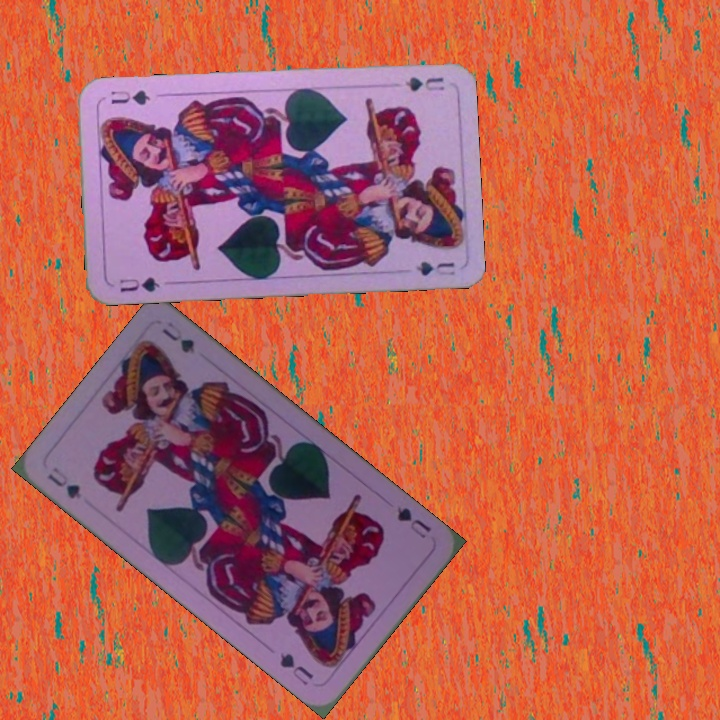GU: (43, 462, 84, 502), (393, 502, 434, 541), (116, 273, 162, 295), (401, 73, 447, 94)
